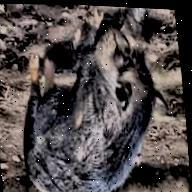boar: (1, 1, 176, 192)
